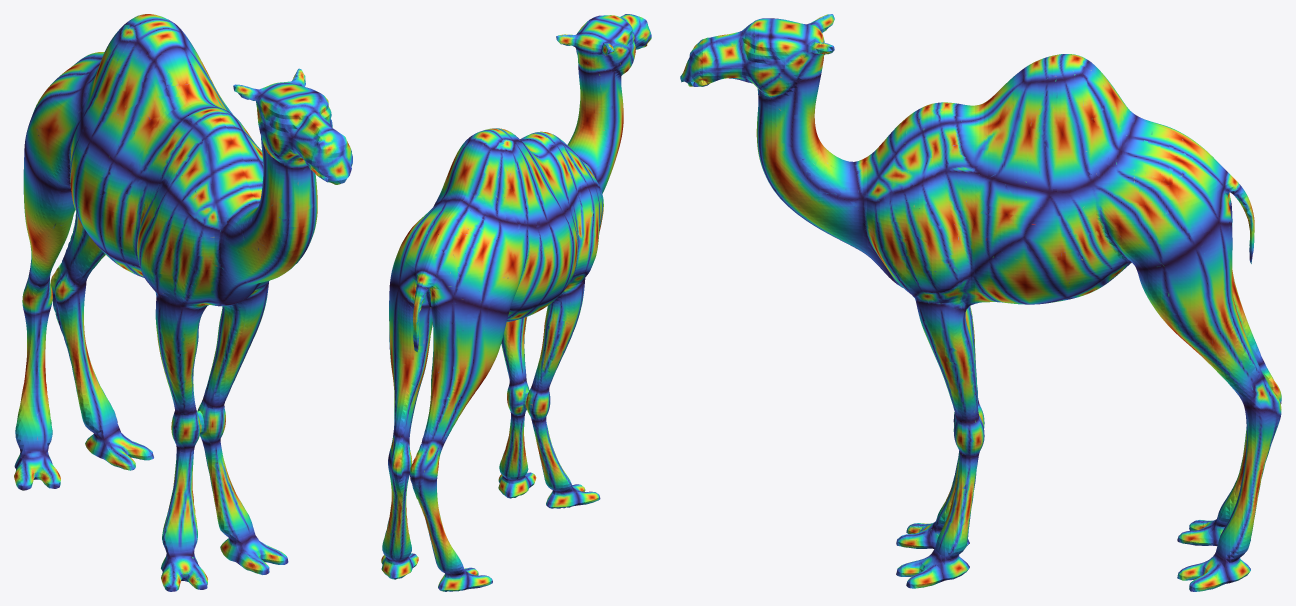
File: gen0.glb
The picture shows the model from 3 angles, left to right: view 1: azimuth 30°, elevation 25°; view 2: azimuth 150°, elevation 25°; view 3: azimuth 270°, elevation 25°; orthographic projection. The views are drawn at different scales.
Parts seen in each view (by area): view 1: Node; view 2: Node; view 3: Node.
Part boxes in pixels (bbox=[...]): Node: bbox=[14, 14, 352, 591]; Node: bbox=[381, 14, 651, 591]; Node: bbox=[680, 14, 1281, 591].
Size of the model in its own units: 0.4329 by 1.39 by 1.41.
1 material, 1 textured.
